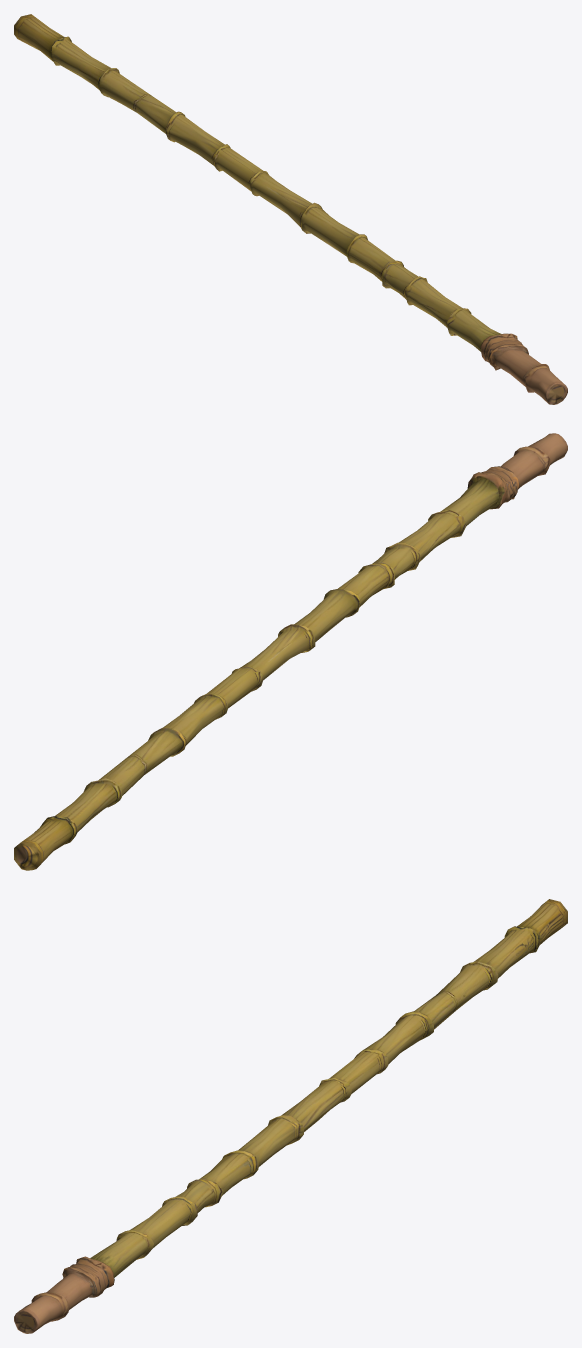
File: item_hq_pole.glb
3 views of the same model, one above another, from view 1: azimuth 30°, elevation 25°; view 2: azimuth 150°, elevation 25°; view 3: azimuth 330°, elevation 25° (orthographic). The views are drawn at different scales.
Visible parts, largest first — view 1: tripo_node_def71f2c-7b1c-4f3d-9d48-aac969f1635d; view 2: tripo_node_def71f2c-7b1c-4f3d-9d48-aac969f1635d; view 3: tripo_node_def71f2c-7b1c-4f3d-9d48-aac969f1635d.
Boxes of the visible parts, x1,y1,x2,y2 form: tripo_node_def71f2c-7b1c-4f3d-9d48-aac969f1635d: (14, 14, 567, 404); tripo_node_def71f2c-7b1c-4f3d-9d48-aac969f1635d: (14, 433, 567, 870); tripo_node_def71f2c-7b1c-4f3d-9d48-aac969f1635d: (14, 899, 567, 1333).
Bounding box in the file's own units: 0.0605 × 0.0332 × 0.998.
1 material, 1 textured.
